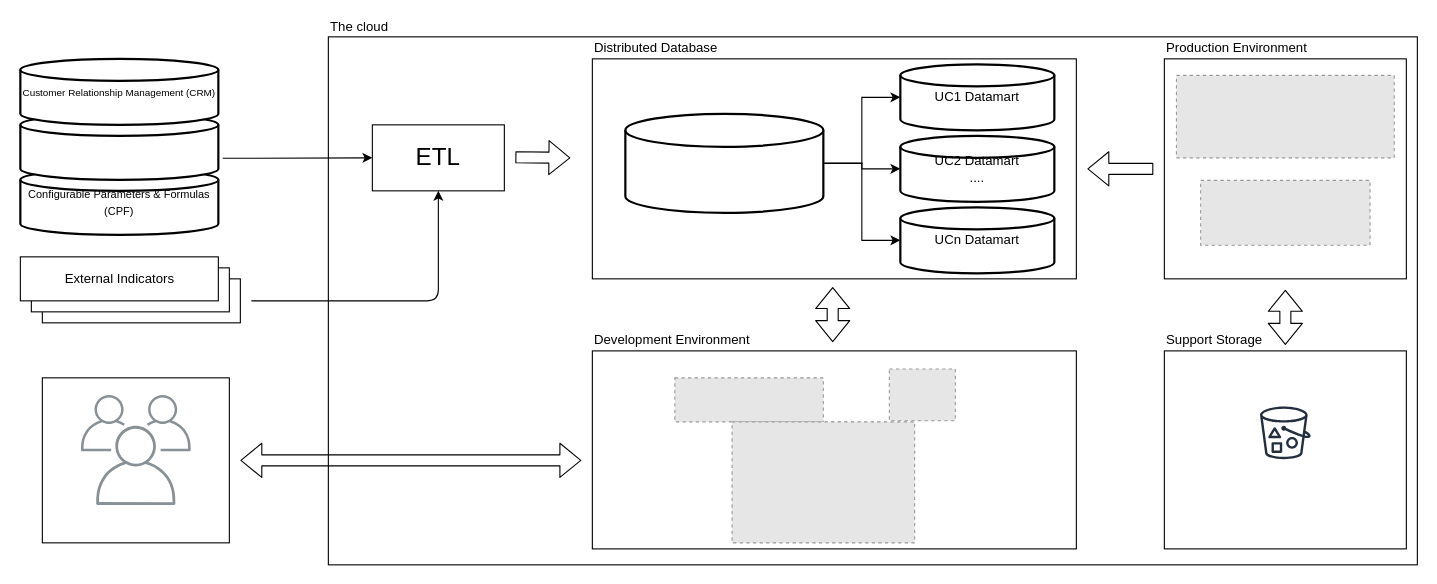
The diagram is 1437 pixels wide and 584 high, and some of its shapes have lost their labels. Grey dashed boxes stand in for pictures. The centre of each missing label's shape, as x and y in pixels:
"Buckets with objects" goes at [1284,432].
"Data Scientist" goes at [135,449].
"Datawarehouse" goes at [724,162].
"Enterprise resource planning (ERP)" goes at [119,146].
